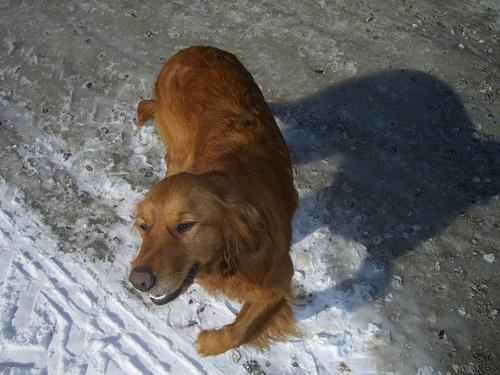Irish_setter: (128, 44, 303, 356)
